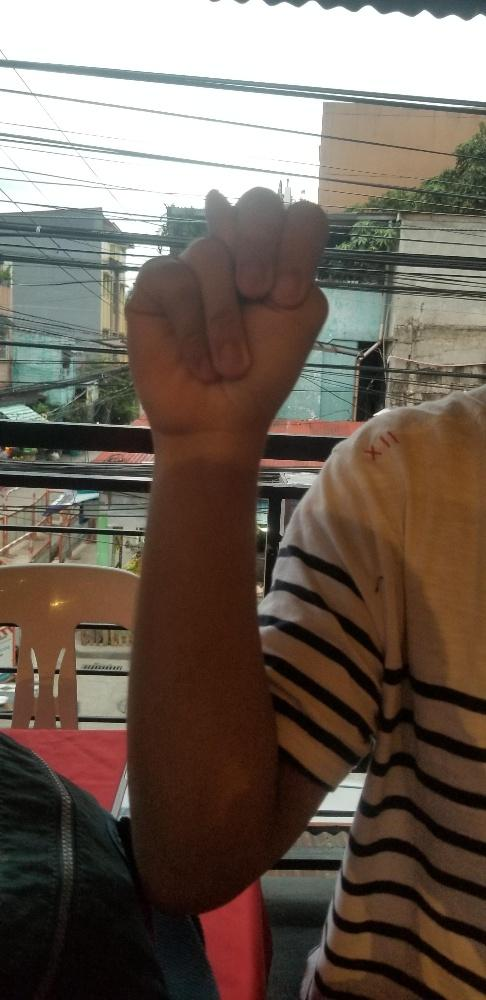n: (124, 185, 330, 433)
